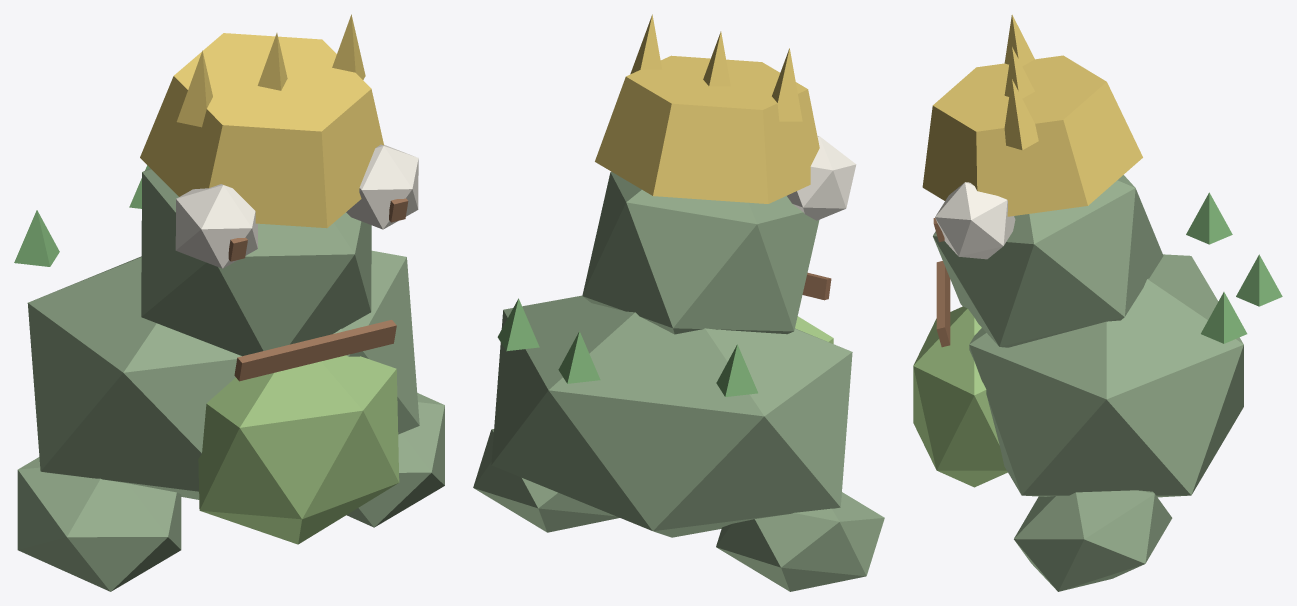
Rendered from npcpose_toad_king_walk_05.glb.
3 renders of one model, left to right at view 1: azimuth 30°, elevation 25°; view 2: azimuth 150°, elevation 25°; view 3: azimuth 270°, elevation 25°, orthographic. The views are drawn at different scales.
Visible parts, largest first — view 1: npcpose; view 2: npcpose; view 3: npcpose.
Part boxes in pixels (<box>): npcpose: <box>14,14,444,591</box>; npcpose: <box>473,14,884,591</box>; npcpose: <box>913,14,1282,591</box>.
Bounding box in the file's own units: 1.75 × 2.14 × 1.51.
